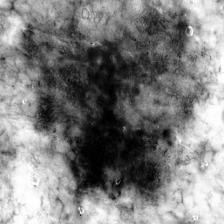Benign Marking or Mole: (23, 7, 202, 199)
